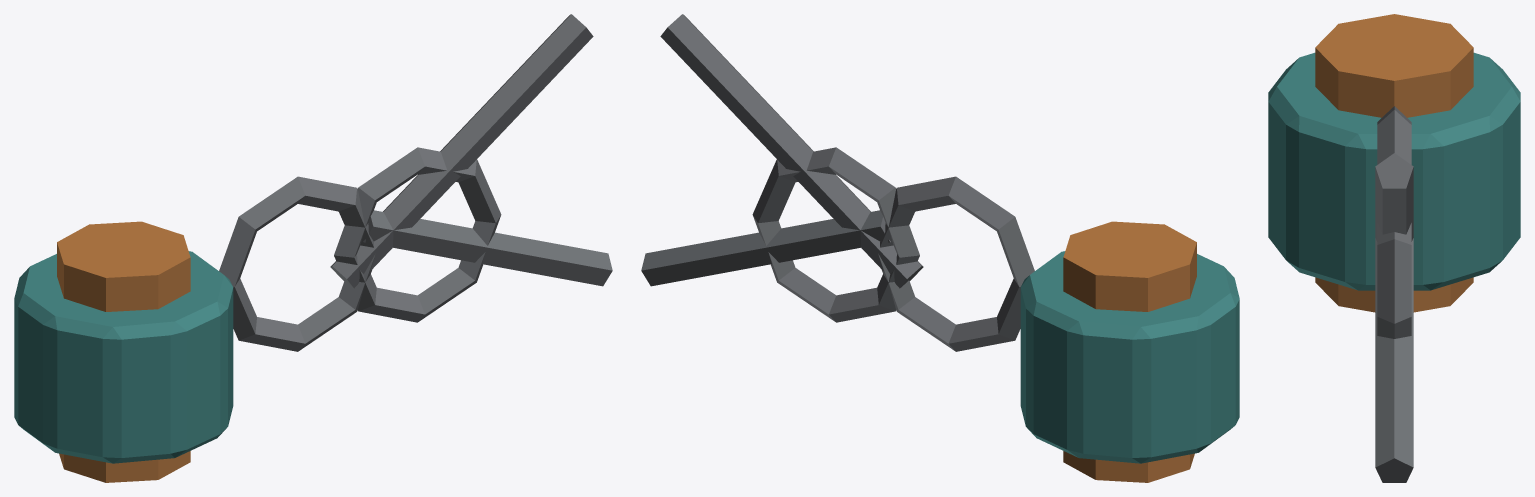
Rendered from prop_crafting_tailor_a.glb.
3 views of the same model, side by side, from view 1: azimuth 30°, elevation 25°; view 2: azimuth 150°, elevation 25°; view 3: azimuth 270°, elevation 25° (orthographic). The views are drawn at different scales.
Visible parts, largest first — view 1: tailor_spool_thread, tailor_scissor_blade_a, tailor_spool_core; view 2: tailor_spool_thread, tailor_scissor_blade_a, tailor_spool_core; view 3: tailor_spool_thread, tailor_spool_core, tailor_scissor_blade_a.
Part boxes in pixels (<box>): tailor_spool_thread: <box>14,251,233,463</box>; tailor_scissor_blade_a: <box>219,14,612,351</box>; tailor_spool_core: <box>57,221,190,482</box>; tailor_spool_thread: <box>1020,251,1239,463</box>; tailor_scissor_blade_a: <box>641,14,1034,351</box>; tailor_spool_core: <box>1063,221,1196,482</box>; tailor_spool_thread: <box>1268,52,1520,290</box>; tailor_spool_core: <box>1315,14,1473,312</box>; tailor_scissor_blade_a: <box>1375,106,1413,482</box>.
Bounding box in the file's own units: 0.5309 × 0.2911 × 0.1751.
